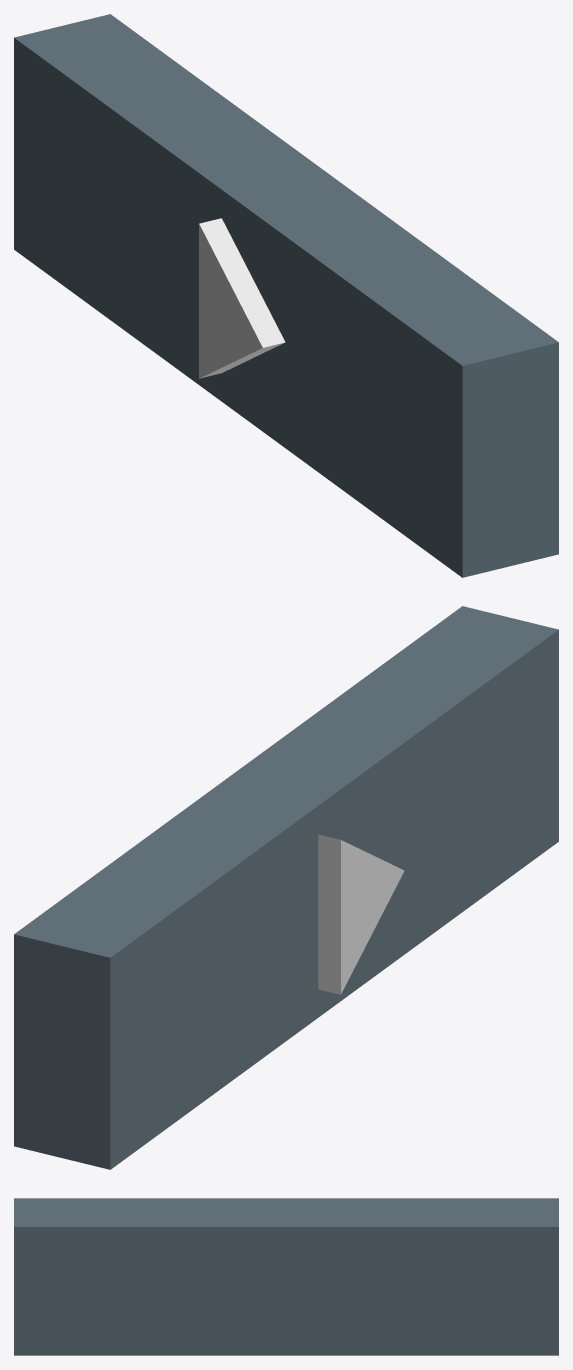
File: start_button.fbx
3 renders of one model, top to bottom at view 1: azimuth 30°, elevation 25°; view 2: azimuth 150°, elevation 25°; view 3: azimuth 270°, elevation 25°, orthographic. The views are drawn at different scales.
Visible parts, largest first — view 1: start; view 2: start; view 3: start.
Boxes of the visible parts, x1,y1,x2,y2 form: start: (14,14,558,577); start: (14,606,558,1169); start: (14,1198,558,1355).
Size of the model in its own units: 23.73 by 40.36 by 155.
